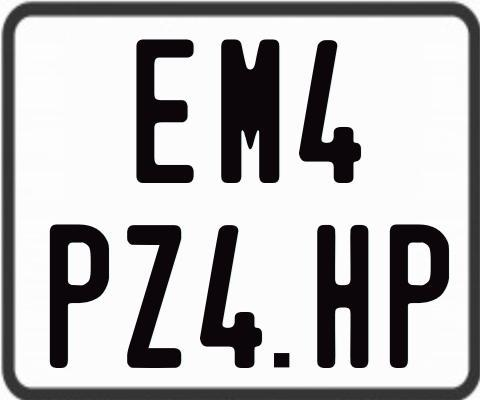4: (299, 39, 362, 187), (198, 222, 261, 365)
E: (135, 37, 198, 185)
H: (316, 223, 371, 370)
M: (220, 37, 281, 182)
P: (50, 221, 110, 370), (389, 222, 451, 366)
Z: (124, 223, 179, 369)
